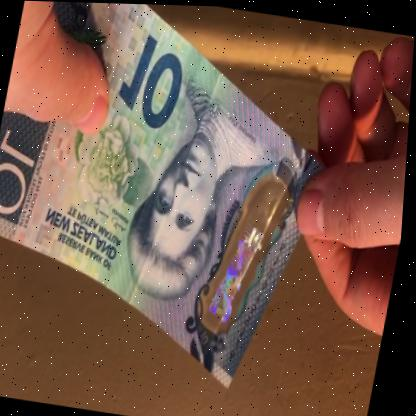10B: (203, 211, 274, 330)
